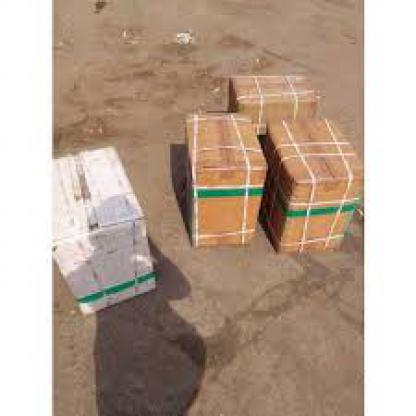paquete: (50, 144, 166, 322), (261, 109, 364, 270), (172, 102, 270, 259), (223, 63, 322, 155)
